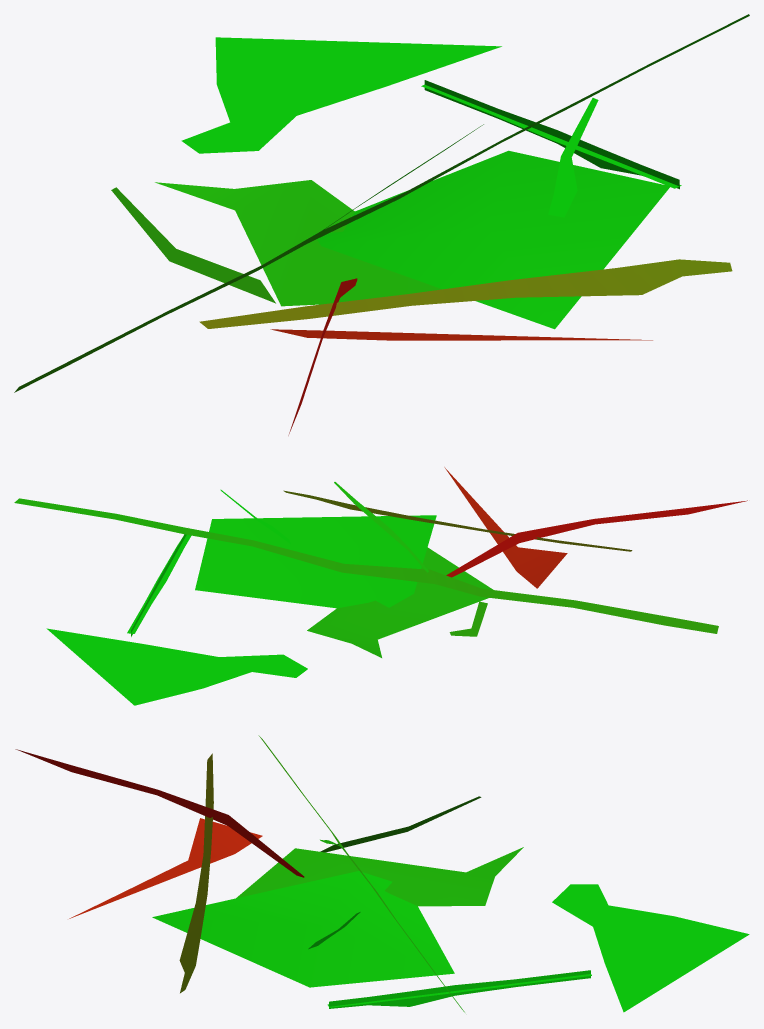
Rendered from Dead Shrubs_LOD1_Var6_vdknafgha.fbx.
3 renders of one model, top to bottom at view 1: azimuth 30°, elevation 25°; view 2: azimuth 150°, elevation 25°; view 3: azimuth 270°, elevation 25°, orthographic. The views are drawn at different scales.
Parts seen in each view (by area): view 1: _ahyb_Var6_LOD1; view 2: _ahyb_Var6_LOD1; view 3: _ahyb_Var6_LOD1.
Boxes of the visible parts, box(x1,y1,x2,y2) form: _ahyb_Var6_LOD1: box(14, 14, 749, 435); _ahyb_Var6_LOD1: box(14, 467, 747, 705); _ahyb_Var6_LOD1: box(15, 735, 749, 1012).
Bounding box in the file's own units: 57.72 × 8.57 × 54.52.
